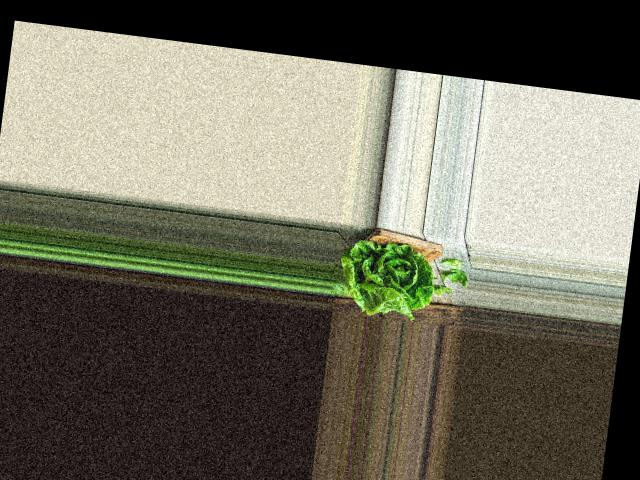lettuce: (333, 232, 435, 320)
